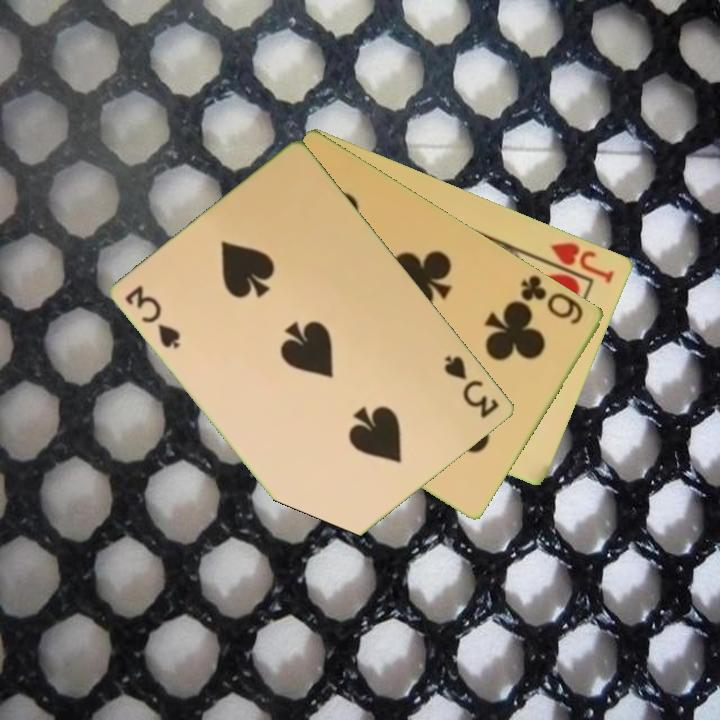3s: (122, 281, 184, 352), (441, 352, 503, 421)
6c: (517, 271, 587, 328)
Jh: (535, 238, 618, 287)
